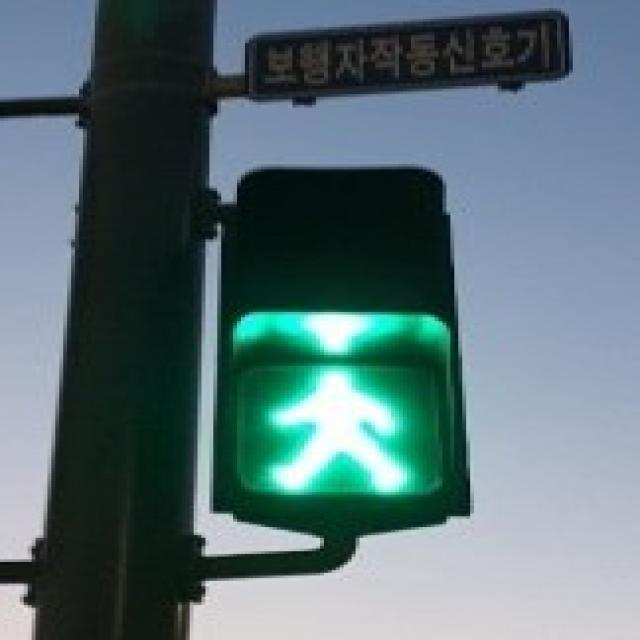green_light: (250, 358, 425, 498)
